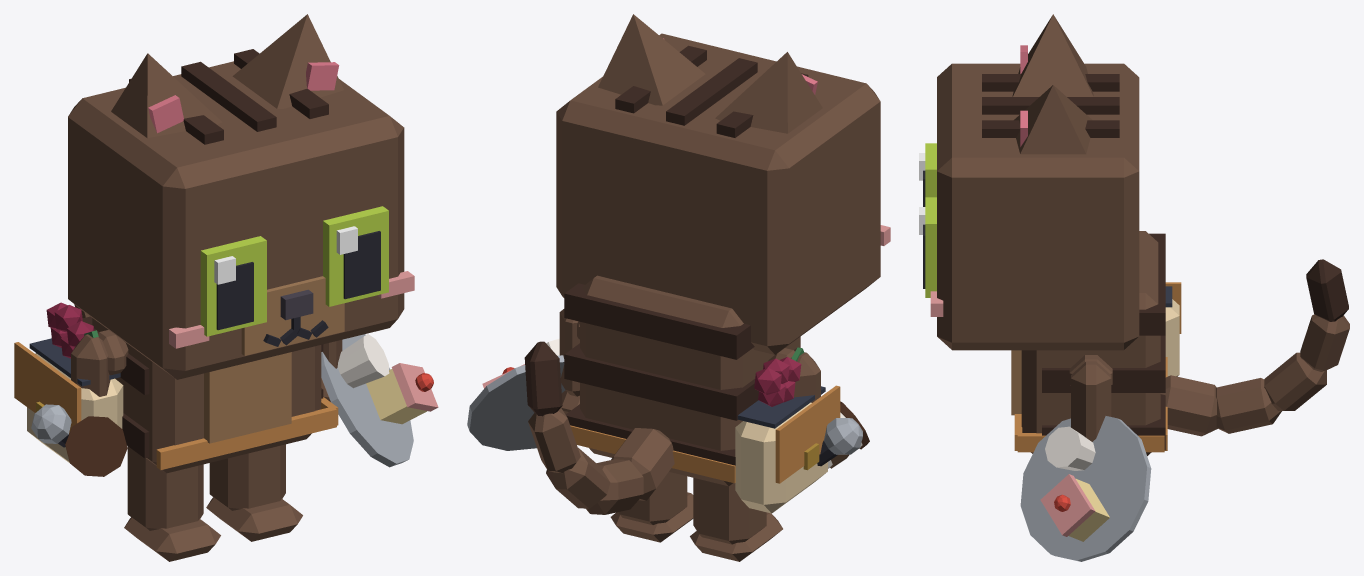
File: CatCafe_Cat_Bramble_Work.fbx
3 renders of one model, left to right at view 1: azimuth 30°, elevation 25°; view 2: azimuth 150°, elevation 25°; view 3: azimuth 270°, elevation 25°, orthographic. The views are drawn at different scales.
Parts seen in each view (by area): view 1: CatCafe_Cat_Bramble_Work_Head, CatCafe_Cat_Bramble_Work_Body, CatCafe_Cat_Bramble_Work_Held_Waiter, CatCafe_Cat_Bramble_Work_LegB2, CatCafe_Cat_Bramble_Work_LegB1, CatCafe_Cat_Bramble_Work_Eye2, CatCafe_Cat_Bramble_Work_Eye1, CatCafe_Cat_Bramble_Work_EarL, CatCafe_Cat_Bramble_Work_EarR, CatCafe_Cat_Bramble_Work_Held_Barista, CatCafe_Cat_Bramble_Work_LegF2, CatCafe_Cat_Bramble_Work_Held_Entertainer; view 2: CatCafe_Cat_Bramble_Work_Head, CatCafe_Cat_Bramble_Work_Body, CatCafe_Cat_Bramble_Work_Tail, CatCafe_Cat_Bramble_Work_EarL, CatCafe_Cat_Bramble_Work_LegB2, CatCafe_Cat_Bramble_Work_Held_Waiter, CatCafe_Cat_Bramble_Work_EarR, CatCafe_Cat_Bramble_Work_LegB1, CatCafe_Cat_Bramble_Work_Held_Entertainer, CatCafe_Cat_Bramble_Work_LegF1, CatCafe_Cat_Bramble_Work_LegF2; view 3: CatCafe_Cat_Bramble_Work_Head, CatCafe_Cat_Bramble_Work_Body, CatCafe_Cat_Bramble_Work_Held_Waiter, CatCafe_Cat_Bramble_Work_Tail, CatCafe_Cat_Bramble_Work_EarR, CatCafe_Cat_Bramble_Work_EarL, CatCafe_Cat_Bramble_Work_LegF1, CatCafe_Cat_Bramble_Work_Eye1, CatCafe_Cat_Bramble_Work_Eye2.
Part boxes in pixels (x1,y1,x2,y2): CatCafe_Cat_Bramble_Work_Head: (68,49,414,379); CatCafe_Cat_Bramble_Work_Body: (14,302,338,473); CatCafe_Cat_Bramble_Work_Held_Waiter: (321,334,438,467); CatCafe_Cat_Bramble_Work_LegB2: (124,446,220,561); CatCafe_Cat_Bramble_Work_LegB1: (206,444,302,541); CatCafe_Cat_Bramble_Work_Eye2: (200,236,266,336); CatCafe_Cat_Bramble_Work_Eye1: (323,206,388,306); CatCafe_Cat_Bramble_Work_EarL: (232,14,343,108); CatCafe_Cat_Bramble_Work_EarR: (111,53,222,138); CatCafe_Cat_Bramble_Work_Held_Barista: (65,416,127,476); CatCafe_Cat_Bramble_Work_LegF2: (71,334,110,396); CatCafe_Cat_Bramble_Work_Held_Entertainer: (31,404,71,447); CatCafe_Cat_Bramble_Work_Head: (556,33,890,354); CatCafe_Cat_Bramble_Work_Body: (564,275,840,513); CatCafe_Cat_Bramble_Work_Tail: (524,341,674,514); CatCafe_Cat_Bramble_Work_EarL: (598,14,705,105); CatCafe_Cat_Bramble_Work_LegB2: (690,478,782,561); CatCafe_Cat_Bramble_Work_Held_Waiter: (467,338,565,450); CatCafe_Cat_Bramble_Work_EarR: (715,52,822,133); CatCafe_Cat_Bramble_Work_LegB1: (610,472,693,542); CatCafe_Cat_Bramble_Work_Held_Entertainer: (817,418,862,466); CatCafe_Cat_Bramble_Work_LegF1: (559,309,579,414); CatCafe_Cat_Bramble_Work_LegF2: (791,352,820,402); CatCafe_Cat_Bramble_Work_Head: (930,63,1139,350); CatCafe_Cat_Bramble_Work_Body: (1011,231,1181,455); CatCafe_Cat_Bramble_Work_Held_Waiter: (1020,416,1151,561); CatCafe_Cat_Bramble_Work_Tail: (1160,259,1349,436); CatCafe_Cat_Bramble_Work_EarR: (1012,14,1093,96); CatCafe_Cat_Bramble_Work_EarL: (1014,85,1092,154); CatCafe_Cat_Bramble_Work_LegF1: (1071,361,1111,441); CatCafe_Cat_Bramble_Work_Eye1: (919,197,936,297); CatCafe_Cat_Bramble_Work_Eye2: (919,143,936,206).
Size of the model in its own units: 1.53 by 1.93 by 1.62.
Materials: 1 (1 with a texture image).
